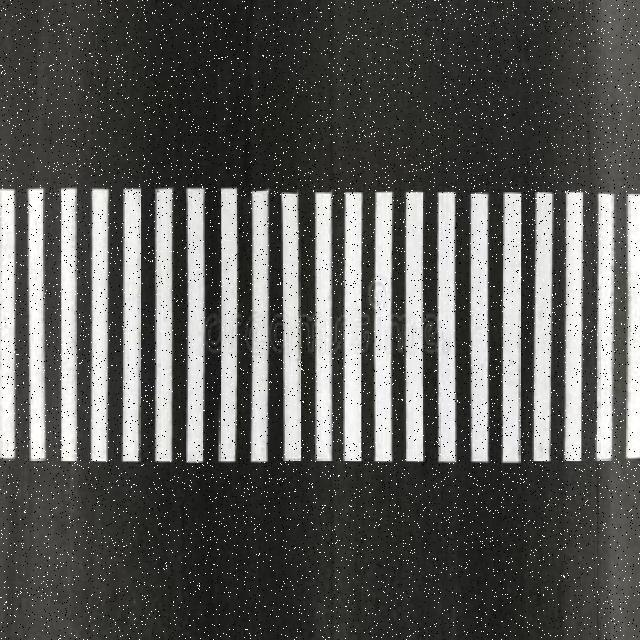Pedestrian crosswalk: (0, 163, 638, 560)
